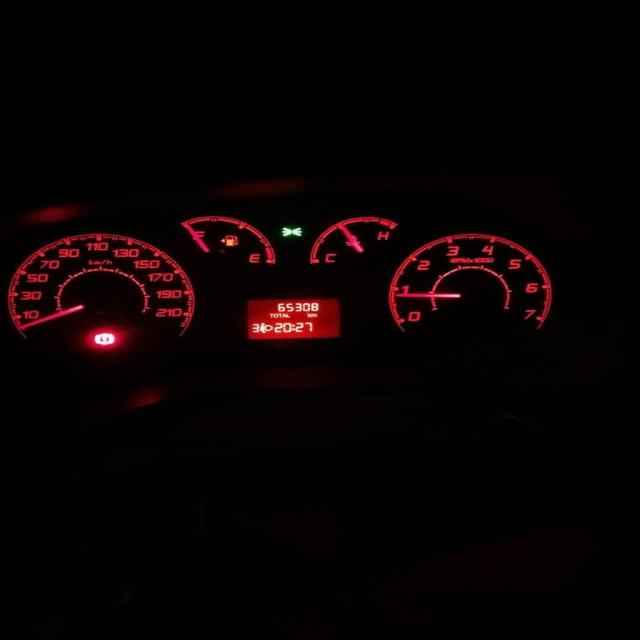odometer: (242, 296, 342, 341)
